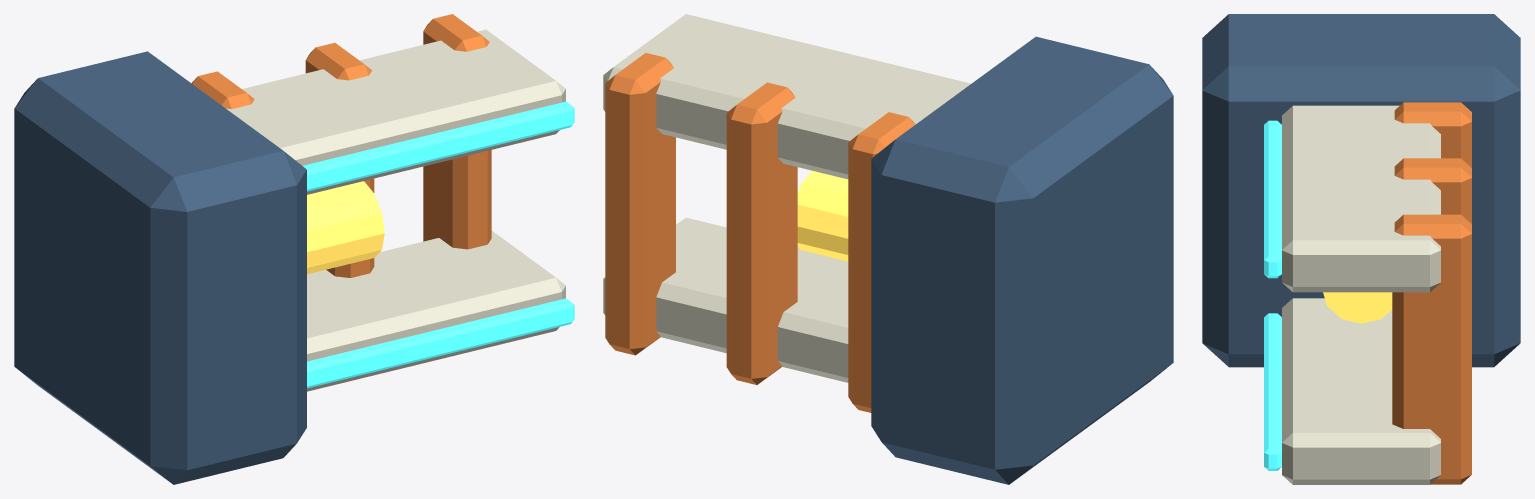
The model's file is accelerator.glb.
The picture shows the model from 3 angles, left to right: view 1: azimuth 30°, elevation 25°; view 2: azimuth 150°, elevation 25°; view 3: azimuth 270°, elevation 25°; orthographic projection. The views are drawn at different scales.
Parts seen in each view (by area): view 1: Breech, Magnetic rail.001, Magnetic rail, Coil brace.002, Rail conductor.001, Rail conductor, Loaded slug, Coil brace.001, Coil brace; view 2: Breech, Magnetic rail.001, Coil brace.001, Coil brace.002, Magnetic rail, Coil brace, Loaded slug; view 3: Breech, Magnetic rail.001, Magnetic rail, Coil brace.002, Rail conductor.001, Rail conductor, Coil brace.001, Coil brace, Loaded slug.
Boxes of the visible parts, left/top/right/bottom form: Breech: left=14, top=51, right=306, bottom=484; Magnetic rail.001: left=226, top=29, right=565, bottom=194; Magnetic rail: left=307, top=231, right=565, bottom=391; Coil brace.002: left=423, top=14, right=491, bottom=249; Rail conductor.001: left=303, top=101, right=574, bottom=191; Rail conductor: left=307, top=298, right=574, bottom=388; Loaded slug: left=307, top=181, right=384, bottom=274; Coil brace.001: left=305, top=42, right=374, bottom=277; Coil brace: left=191, top=71, right=254, bottom=108; Breech: left=871, top=36, right=1173, bottom=484; Magnetic rail.001: left=603, top=14, right=970, bottom=179; Coil brace.001: left=726, top=82, right=797, bottom=384; Coil brace.002: left=605, top=53, right=675, bottom=355; Magnetic rail: left=603, top=217, right=848, bottom=382; Coil brace: left=848, top=112, right=915, bottom=412; Loaded slug: left=797, top=171, right=848, bottom=261; Breech: left=1202, top=14, right=1520, bottom=367; Magnetic rail.001: left=1282, top=105, right=1440, bottom=292; Magnetic rail: left=1282, top=298, right=1440, bottom=484; Coil brace.002: left=1392, top=214, right=1471, bottom=484; Rail conductor.001: left=1264, top=120, right=1281, bottom=278; Rail conductor: left=1264, top=313, right=1281, bottom=470; Coil brace.001: left=1394, top=158, right=1471, bottom=223; Coil brace: left=1394, top=102, right=1471, bottom=167; Loaded slug: left=1323, top=292, right=1392, bottom=323.
Size of the model in its own units: 1.14 by 0.75 by 0.72.
